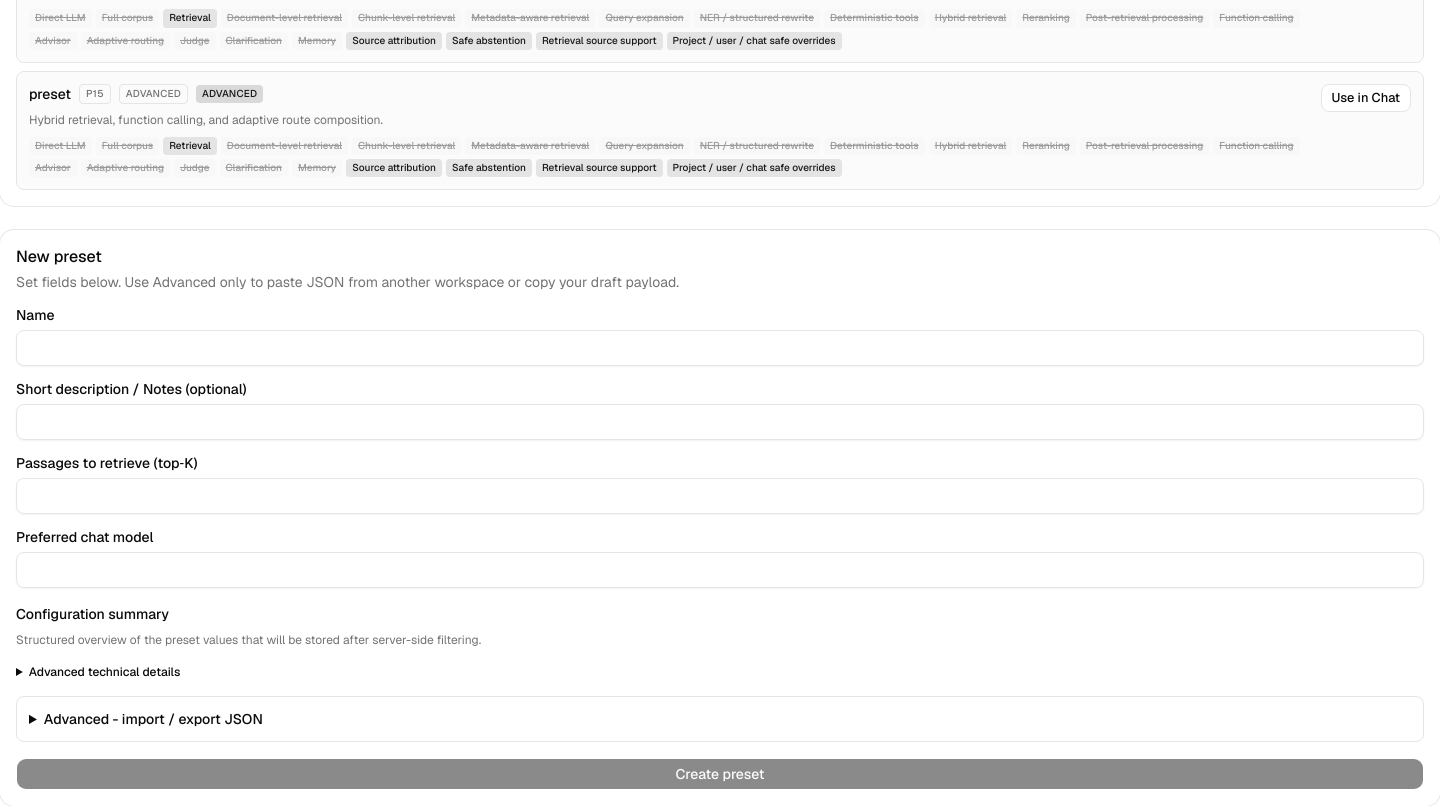
PresetsSettingsPanel › renders structured configuration summary without visible raw JSON in normal mode
The image size is (1440, 806).
(page scrolled)
Expected: the element with test id "preset-draft-summary" is shown, x1=16 y1=605 x2=481 y2=680
Type "5" into the number field labelled "Passages to retrieve (top‑K)" at [720, 496], box x1=16 y1=478 x2=1424 y2=514
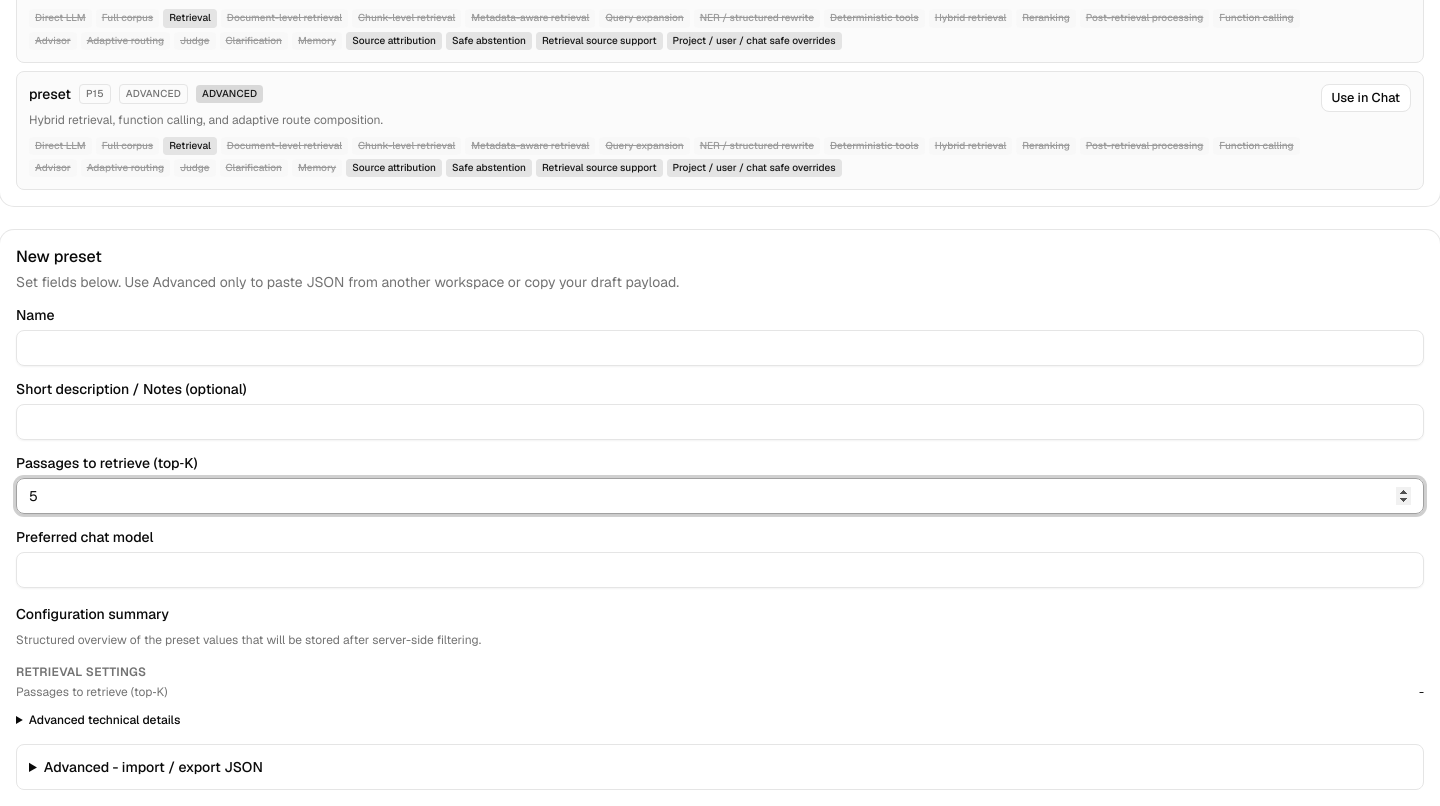
Click the heading "Advanced technical details" at [105, 720], box x1=29 y1=712 x2=180 y2=728
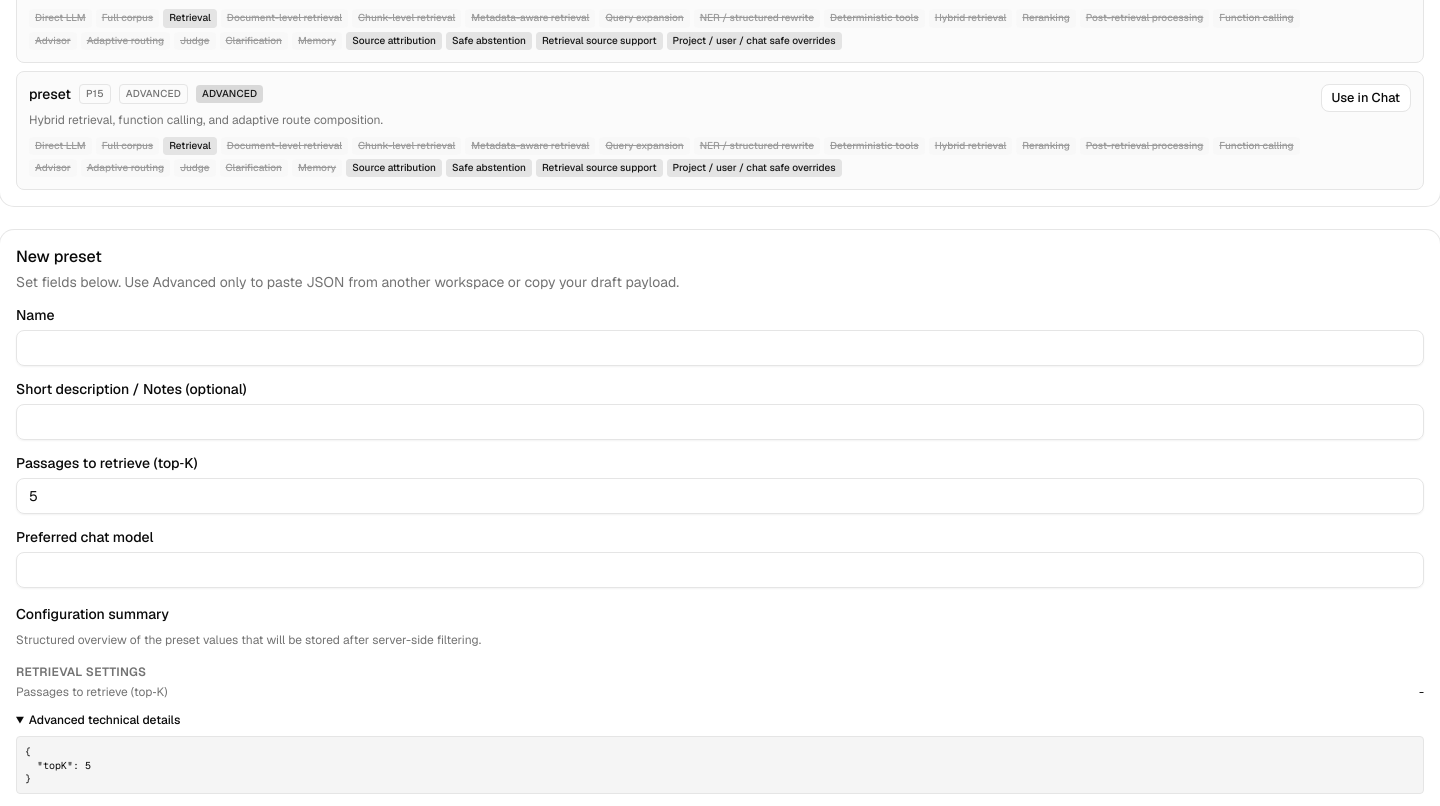
Result: the text "{ \"topK\": 5 }" is shown at x1=16 y1=736 x2=1424 y2=794
